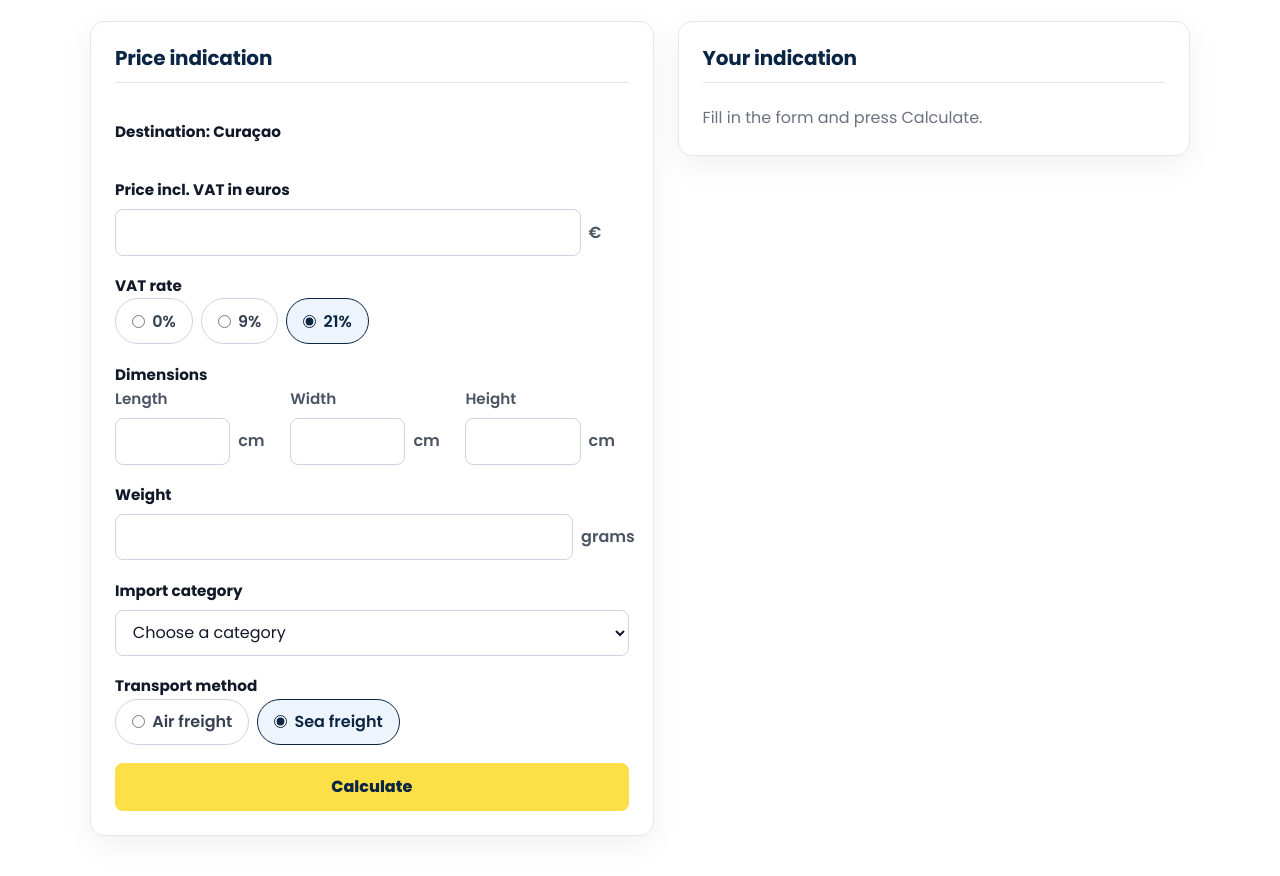
the shipping calculator › says what is missing instead of calculating nonsense
(page scrolled)
Click the button "Calculate": (372, 787) left=115, top=763, right=629, bottom=811
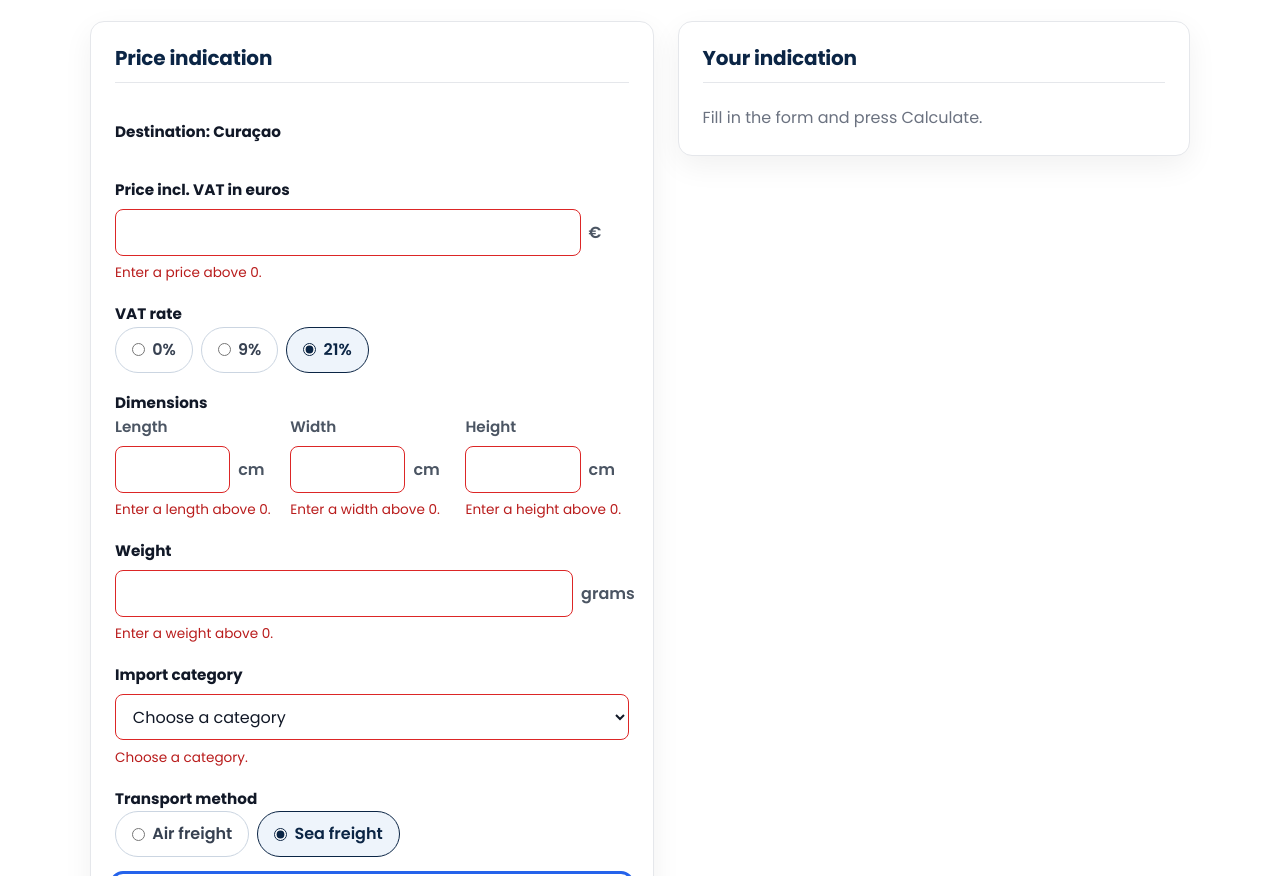
expect the text "Enter a price above 0." is shown: met, box left=115, top=263, right=262, bottom=282
expect the text "Choose a category." is shown: met, box left=115, top=748, right=248, bottom=767
